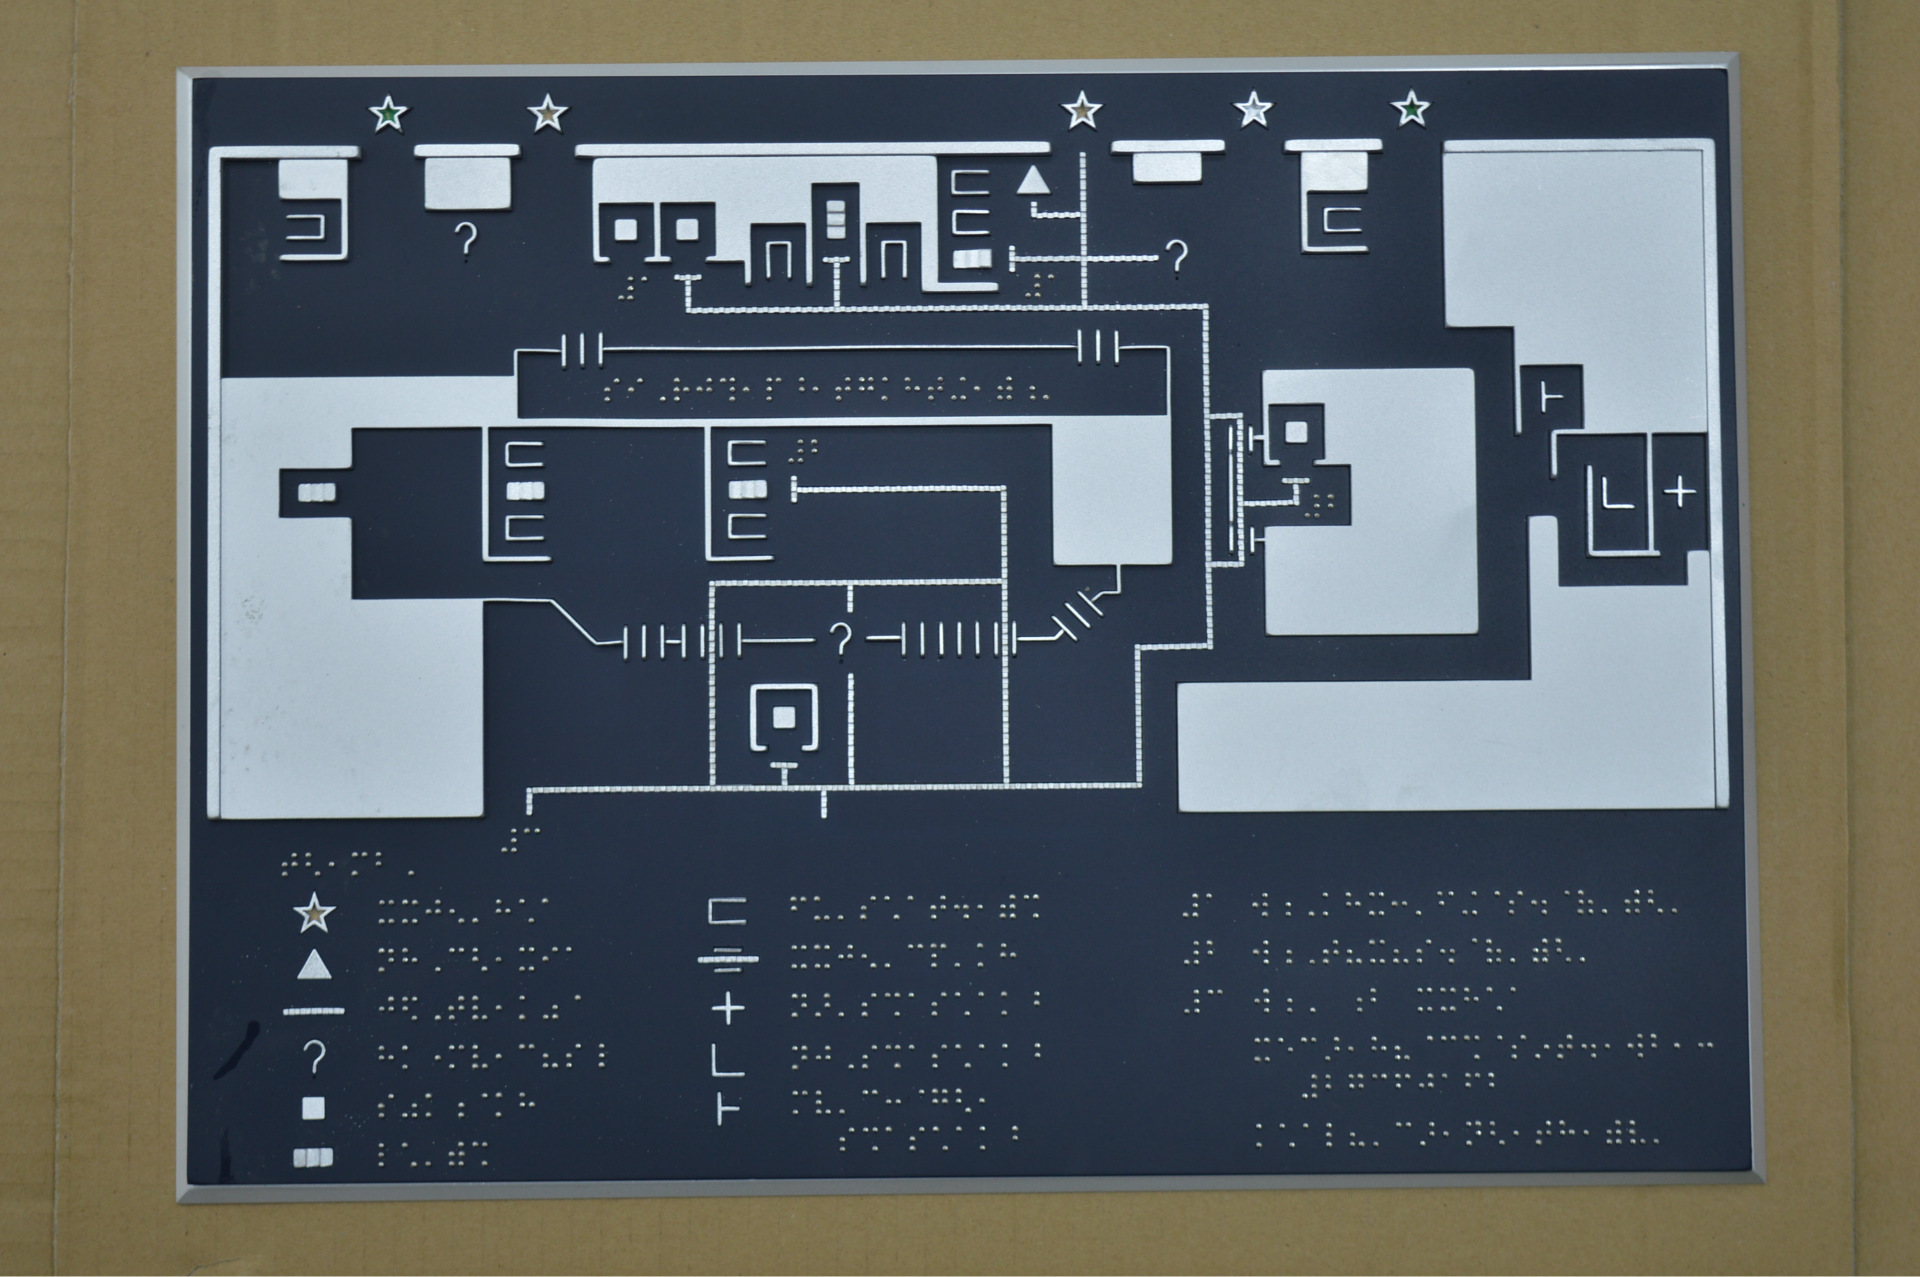Braille: (797, 373, 820, 403), (1343, 985, 1366, 1015), (1299, 983, 1318, 1016), (694, 373, 716, 403), (1390, 936, 1411, 966), (976, 1087, 998, 1117), (1368, 985, 1388, 1016), (1509, 983, 1529, 1015), (1323, 1070, 1343, 1102), (1487, 1070, 1507, 1102), (929, 1087, 949, 1119), (564, 943, 584, 975), (376, 1090, 396, 1122), (448, 1090, 468, 1122), (470, 1090, 490, 1122), (882, 941, 904, 969), (975, 941, 996, 969), (399, 1092, 420, 1120), (376, 896, 396, 926), (401, 896, 420, 926), (423, 896, 443, 926), (542, 896, 562, 926), (812, 894, 832, 924), (1204, 891, 1224, 921), (1390, 889, 1410, 919), (1579, 935, 1599, 965), (1299, 1035, 1318, 1065), (1393, 1072, 1413, 1102), (1462, 1072, 1482, 1102), (1581, 1117, 1601, 1147), (860, 941, 879, 971), (790, 991, 810, 1020), (907, 991, 927, 1020), (837, 1042, 857, 1072), (837, 1087, 857, 1117), (884, 1087, 904, 1117), (954, 1087, 974, 1117), (885, 1125, 905, 1154), (954, 1125, 974, 1154), (540, 945, 560, 975), (563, 992, 583, 1022), (517, 1042, 537, 1072), (495, 1090, 515, 1120), (470, 1139, 490, 1169), (1437, 986, 1458, 1013), (602, 375, 621, 403), (741, 375, 761, 403), (373, 851, 393, 879), (882, 894, 902, 922), (1367, 936, 1387, 965), (1554, 935, 1574, 963), (1182, 986, 1202, 1015), (1484, 985, 1504, 1013), (1251, 1035, 1271, 1063), (1415, 1033, 1435, 1062), (1462, 1033, 1482, 1062), (812, 942, 832, 971), (954, 941, 974, 969), (929, 989, 949, 1018), (976, 991, 996, 1019), (999, 989, 1019, 1018), (812, 1043, 832, 1072), (908, 1042, 928, 1070), (954, 1042, 974, 1070), (1023, 1040, 1043, 1069), (860, 1125, 879, 1153), (495, 946, 515, 975), (517, 993, 537, 1022), (542, 993, 562, 1022), (587, 1040, 607, 1069), (423, 1090, 443, 1119), (671, 373, 690, 403), (834, 373, 852, 403), (927, 373, 945, 403), (1019, 373, 1038, 403), (1042, 373, 1060, 403), (448, 896, 466, 926), (470, 896, 489, 926), (517, 896, 536, 926), (837, 894, 855, 924), (907, 894, 925, 924), (998, 891, 1016, 921), (1182, 891, 1200, 921), (1299, 889, 1317, 919), (1344, 889, 1363, 919), (1367, 889, 1385, 919), (1624, 886, 1642, 916), (1321, 936, 1340, 966), (1509, 935, 1528, 965), (1276, 985, 1294, 1015), (1276, 1035, 1294, 1065), (1555, 1032, 1574, 1062), (1417, 1070, 1435, 1100), (1535, 1117, 1554, 1147), (1558, 1117, 1576, 1147), (907, 941, 925, 971), (999, 941, 1018, 971), (814, 991, 832, 1020), (860, 991, 878, 1020), (1001, 1040, 1019, 1070), (861, 1087, 879, 1117), (908, 1087, 927, 1117), (908, 1125, 927, 1154), (376, 945, 395, 975), (401, 993, 419, 1023), (425, 993, 443, 1023), (564, 1040, 583, 1070), (522, 827, 542, 854), (788, 894, 808, 921), (1182, 939, 1202, 966), (1251, 939, 1271, 966), (1532, 1035, 1552, 1062), (1673, 1033, 1693, 1060), (1440, 1072, 1460, 1099), (1022, 991, 1042, 1018), (860, 1043, 879, 1070), (423, 946, 443, 973), (448, 1043, 468, 1070), (470, 1043, 490, 1070), (495, 1043, 515, 1070), (423, 1142, 443, 1169), (1648, 885, 1665, 916), (1301, 1070, 1318, 1102), (616, 274, 634, 302), (640, 274, 659, 302), (627, 375, 646, 403), (649, 375, 667, 403), (881, 375, 899, 403), (904, 375, 922, 403), (1303, 492, 1321, 520), (1326, 492, 1344, 520), (305, 849, 324, 878), (398, 851, 416, 879), (500, 827, 519, 855), (860, 894, 878, 922), (1022, 892, 1041, 921), (1554, 888, 1572, 916), (1576, 888, 1595, 916), (1671, 886, 1689, 915), (1299, 938, 1317, 966), (1253, 986, 1271, 1015), (1462, 985, 1481, 1013), (1626, 1032, 1645, 1060), (1649, 1030, 1668, 1059), (1347, 1073, 1366, 1102), (1277, 1122, 1296, 1150), (1301, 1122, 1320, 1150), (1326, 1120, 1344, 1149), (1653, 1119, 1672, 1147), (929, 941, 948, 969), (838, 991, 857, 1019), (884, 991, 902, 1019), (954, 989, 972, 1018), (790, 1043, 808, 1072), (884, 1042, 902, 1070), (929, 1042, 948, 1070), (978, 1042, 996, 1070), (814, 1087, 832, 1116), (838, 1125, 857, 1153), (931, 1125, 949, 1153), (978, 1125, 996, 1153), (517, 945, 536, 973), (376, 993, 395, 1022), (448, 993, 466, 1022), (495, 993, 513, 1022), (519, 1090, 537, 1119), (401, 1140, 419, 1169), (858, 373, 875, 403), (949, 373, 966, 403), (996, 373, 1013, 403), (279, 849, 296, 879), (495, 896, 512, 926), (929, 892, 946, 922), (1461, 888, 1478, 918), (1507, 886, 1524, 916), (1529, 886, 1547, 916), (1276, 936, 1293, 966), (1604, 1035, 1624, 1060), (1371, 1072, 1388, 1102), (1465, 1117, 1482, 1147), (1605, 1117, 1622, 1147), (1629, 1117, 1646, 1147), (401, 1045, 420, 1070), (718, 376, 737, 403), (764, 375, 783, 402), (972, 376, 991, 403), (787, 438, 805, 465), (811, 438, 830, 465), (1023, 272, 1042, 299), (351, 849, 369, 877), (1435, 889, 1454, 916), (1484, 888, 1502, 915), (1415, 936, 1434, 963), (1461, 936, 1480, 963), (1484, 936, 1502, 963), (1415, 986, 1434, 1013), (1347, 1035, 1366, 1062), (1393, 1035, 1411, 1062), (1696, 1035, 1715, 1062), (1348, 1122, 1367, 1149), (790, 943, 808, 971), (791, 1089, 810, 1116), (448, 946, 466, 973), (470, 946, 489, 973), (470, 993, 489, 1020), (423, 1043, 442, 1070), (542, 1043, 560, 1070), (376, 1142, 395, 1169), (1251, 889, 1269, 918), (1321, 889, 1338, 918), (1415, 889, 1433, 918), (1599, 888, 1616, 916), (1346, 938, 1363, 966), (1440, 936, 1457, 965), (1395, 1119, 1413, 1147), (1418, 1119, 1435, 1147), (1490, 1119, 1507, 1147), (1512, 1119, 1529, 1147), (1002, 1123, 1019, 1152), (448, 1140, 465, 1169), (328, 851, 346, 877), (1206, 988, 1224, 1013), (1370, 1035, 1388, 1060), (1487, 1035, 1505, 1060), (1509, 1035, 1528, 1060), (1579, 1035, 1598, 1060), (378, 1045, 396, 1070), (954, 894, 971, 921), (976, 895, 993, 922), (1274, 891, 1291, 918), (1206, 938, 1223, 965), (1532, 936, 1549, 963), (1324, 1035, 1341, 1062), (1440, 1035, 1457, 1062), (1254, 1122, 1271, 1149), (1373, 1122, 1390, 1149), (1442, 1120, 1460, 1147), (837, 941, 854, 968), (401, 946, 418, 973), (1048, 272, 1065, 298)
